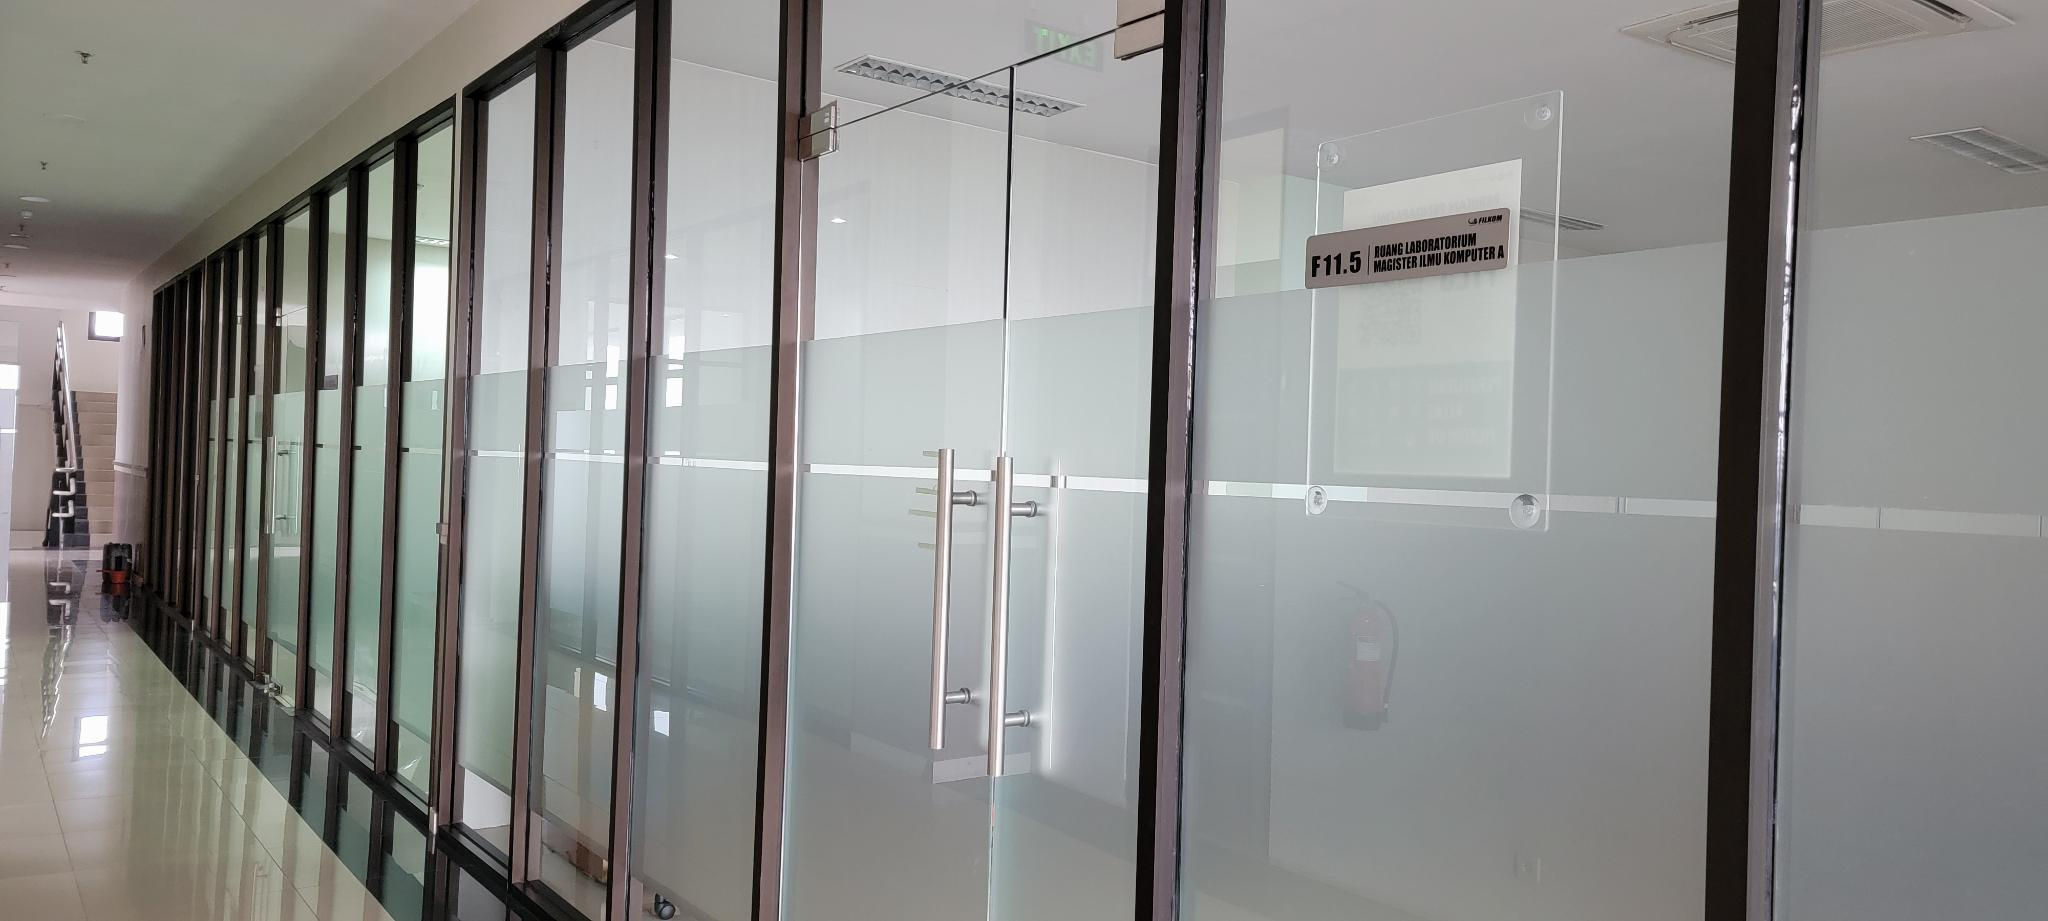plate: (1302, 208, 1512, 291)
